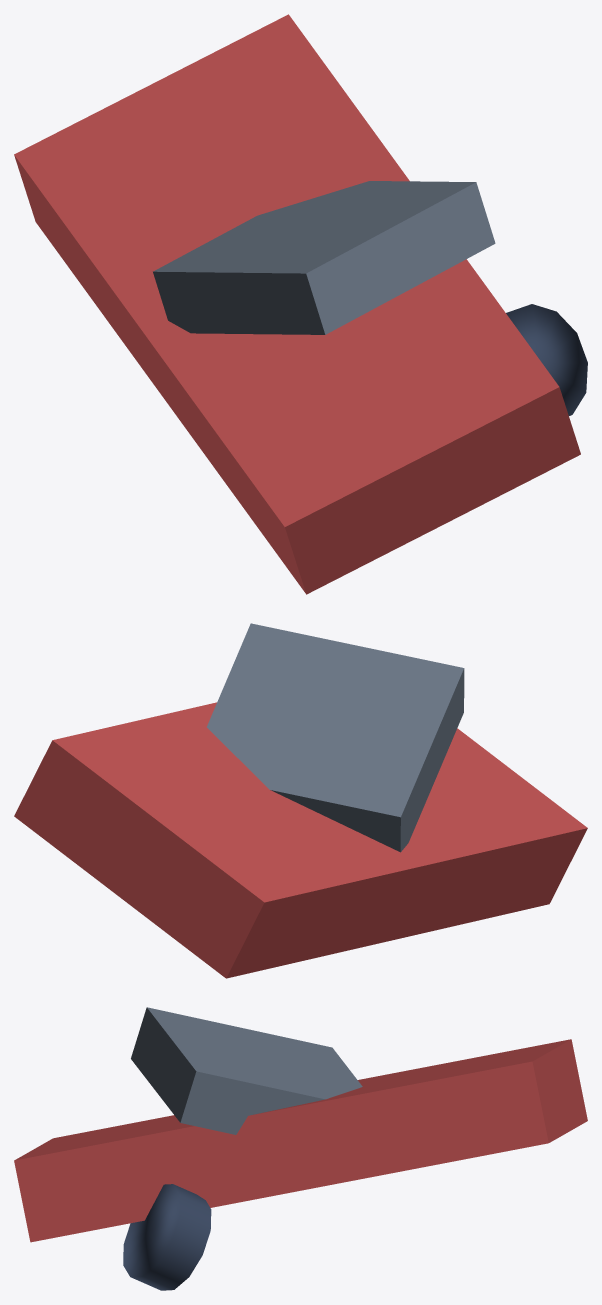
File: pickup-truck-wreck.glb
The picture shows the model from 3 angles, top to bottom: view 1: azimuth 30°, elevation 25°; view 2: azimuth 150°, elevation 25°; view 3: azimuth 270°, elevation 25°; orthographic projection. The views are drawn at different scales.
Visible parts, largest first — view 1: Root; view 2: Root; view 3: Root.
Part boxes in pixels (bbox=[...]): Root: bbox=[14, 14, 587, 594]; Root: bbox=[14, 623, 587, 978]; Root: bbox=[14, 1007, 587, 1290].
Size of the model in its own units: 3.18 by 2.62 by 5.15.
